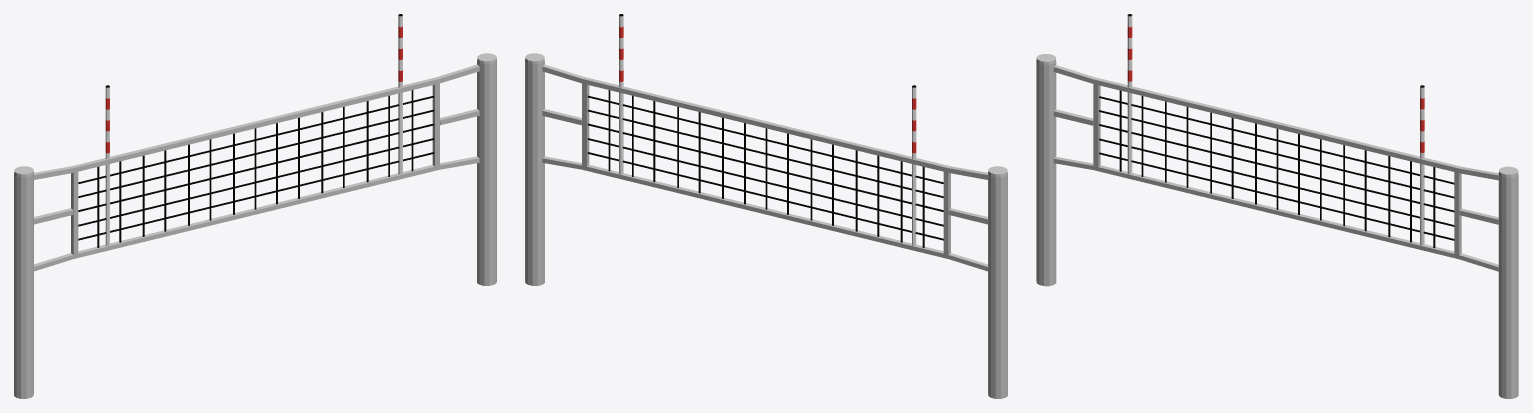
The model's file is Volleyball_net_01.fbx.
3 views of the same model, side by side, from view 1: azimuth 30°, elevation 25°; view 2: azimuth 150°, elevation 25°; view 3: azimuth 330°, elevation 25° (orthographic).
Visible parts, largest first — view 1: Volleyball_net_01.001; view 2: Volleyball_net_01.001; view 3: Volleyball_net_01.001.
Boxes of the visible parts, x1=… form: Volleyball_net_01.001: x1=14, y1=14, x2=496, y2=398; Volleyball_net_01.001: x1=525, y1=14, x2=1007, y2=398; Volleyball_net_01.001: x1=1036, y1=14, x2=1518, y2=398.
Size of the model in its own units: 522 by 299 by 17.89.
